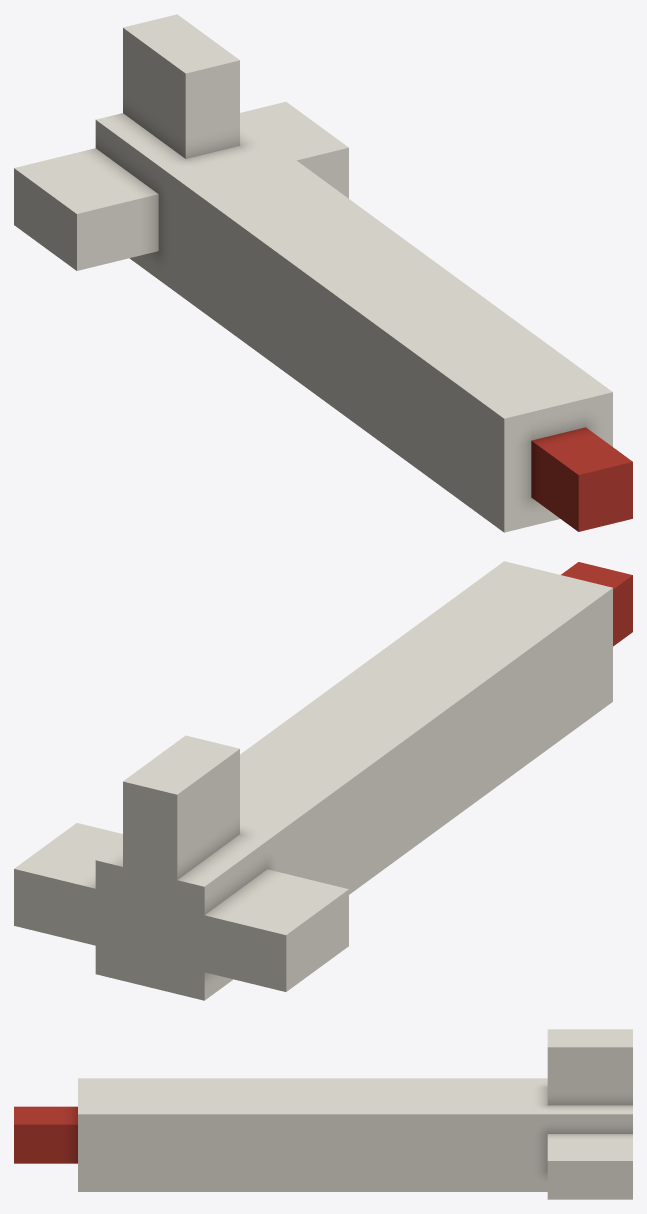
File: u_missile.glb
3 views of the same model, one above another, from view 1: azimuth 30°, elevation 25°; view 2: azimuth 150°, elevation 25°; view 3: azimuth 270°, elevation 25° (orthographic). The views are drawn at different scales.
Parts seen in each view (by area): view 1: u_missile_body; view 2: u_missile_body; view 3: u_missile_body.
Boxes of the visible parts, x1,y1,x2,y2 form: u_missile_body: (14,14,632,532); u_missile_body: (14,561,632,1000); u_missile_body: (14,1029,632,1199).
Size of the model in its own units: 0.625 by 0.4375 by 1.81.
1 material, 1 textured.
